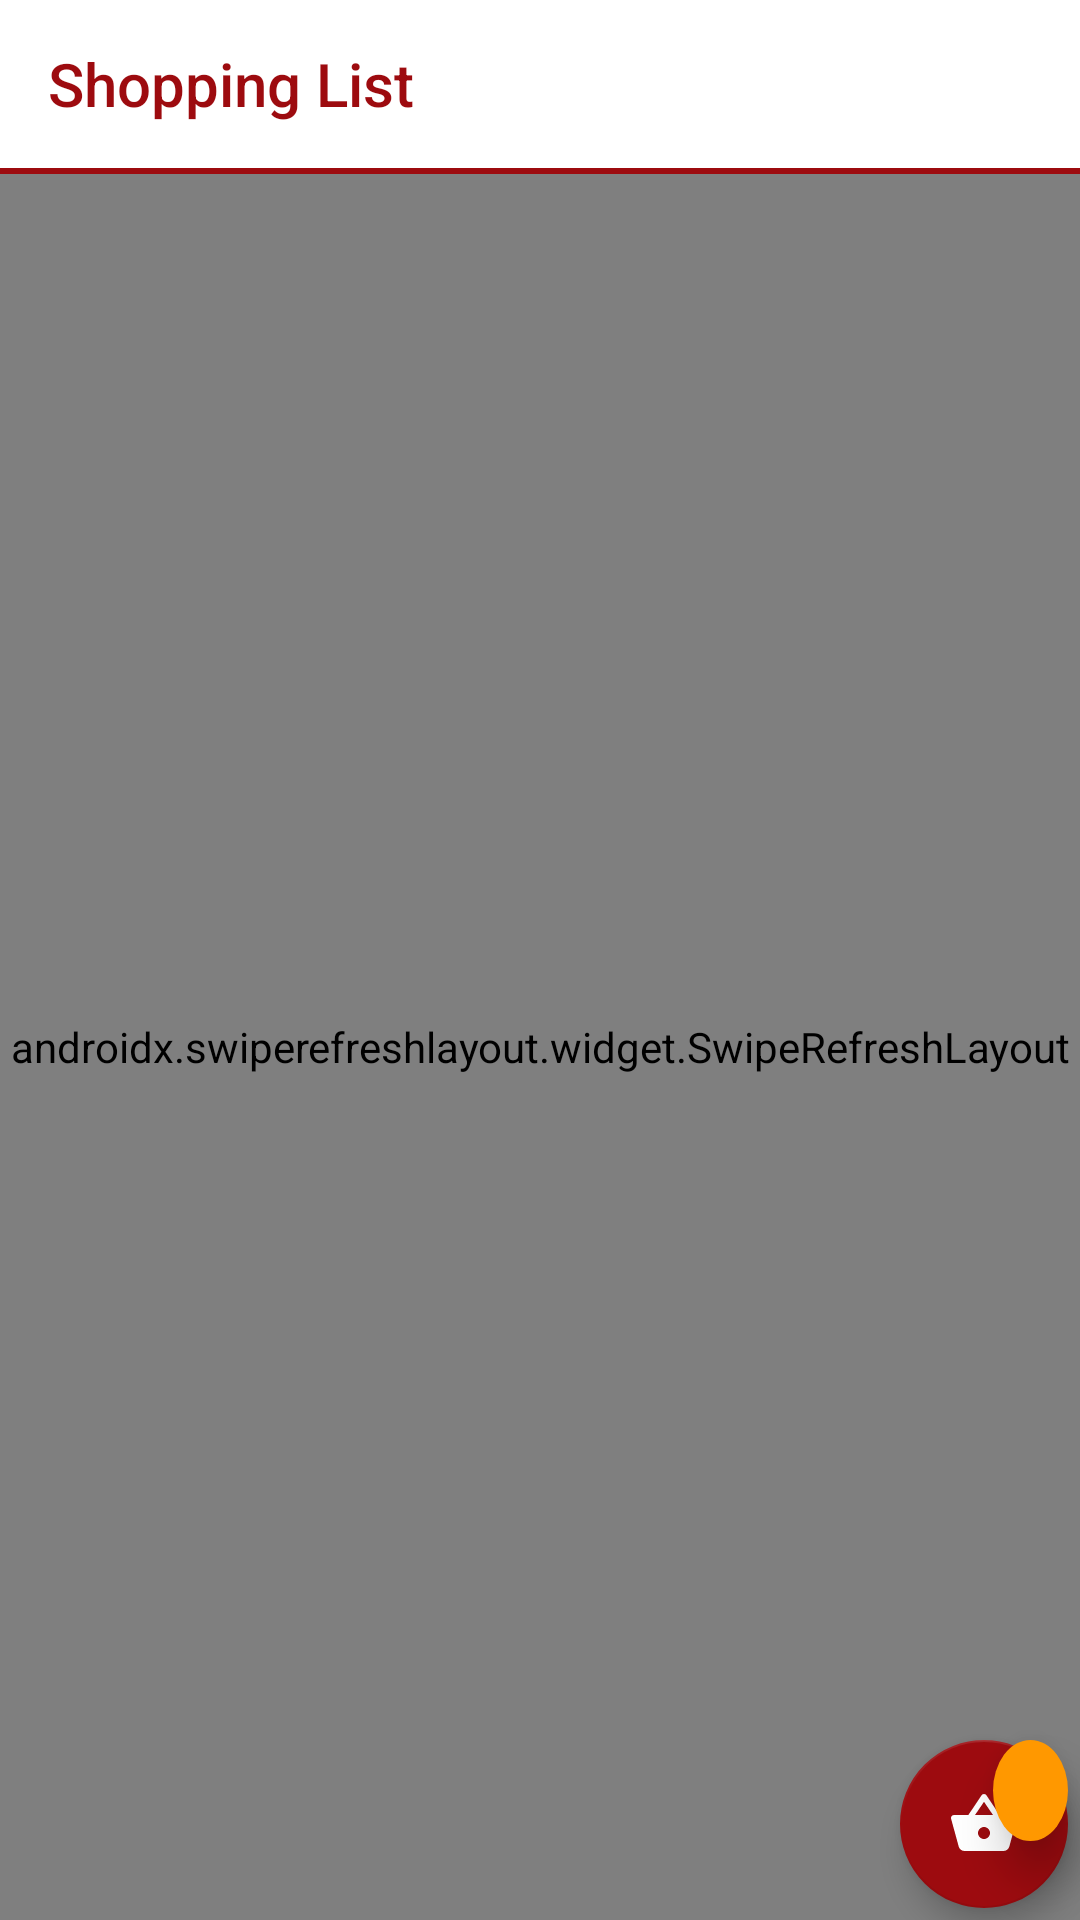

Icon click points for this 1080×1920 phone screenshot, format point (x, y):
shopping basket: point (984, 1824)
